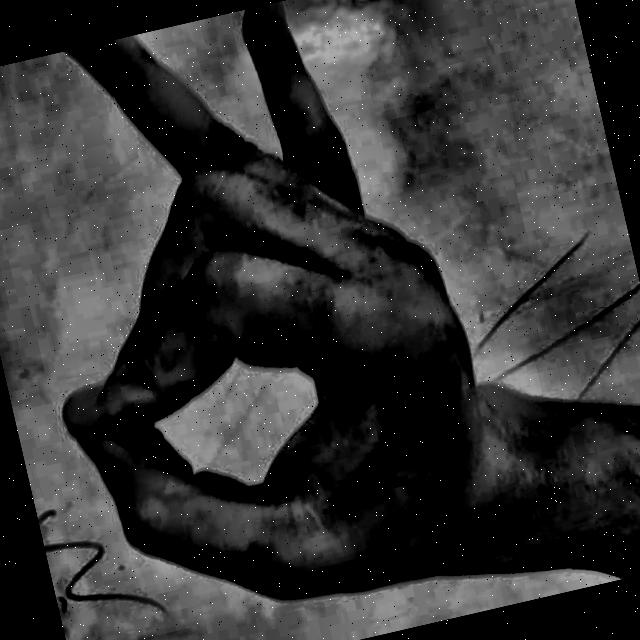Na: (0, 0, 581, 640)
